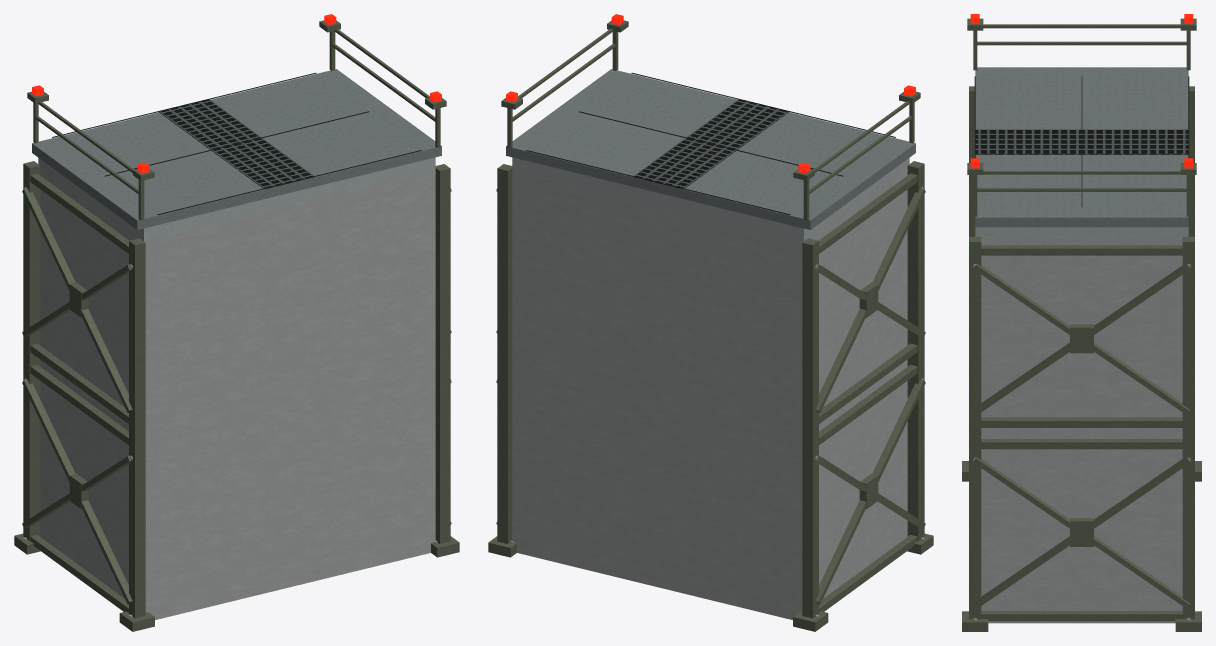
File: half-bay.glb
3 views of the same model, side by side, from view 1: azimuth 30°, elevation 25°; view 2: azimuth 150°, elevation 25°; view 3: azimuth 270°, elevation 25° (orthographic).
Visible parts, largest first — view 1: half-bay-lod0-base0, half-bay-lod0-floor0, half-bay-lod0-roof0; view 2: half-bay-lod0-base0, half-bay-lod0-floor0, half-bay-lod0-roof0; view 3: half-bay-lod0-floor0, half-bay-lod0-base0, half-bay-lod0-roof0.
Boxes of the visible parts, x1,y1,x2,y2 form: half-bay-lod0-base0: (14,355,459,631); half-bay-lod0-floor0: (22,161,451,436); half-bay-lod0-roof0: (27,14,446,239); half-bay-lod0-base0: (488,355,933,631); half-bay-lod0-floor0: (496,161,925,436); half-bay-lod0-roof0: (501,14,920,239); half-bay-lod0-floor0: (969,86,1194,435); half-bay-lod0-base0: (962,429,1201,631); half-bay-lod0-roof0: (967,14,1196,235).
Size of what is drawn, in the model's own units: 32.2 by 43.07 by 20.2.
8 materials, 8 textured.
